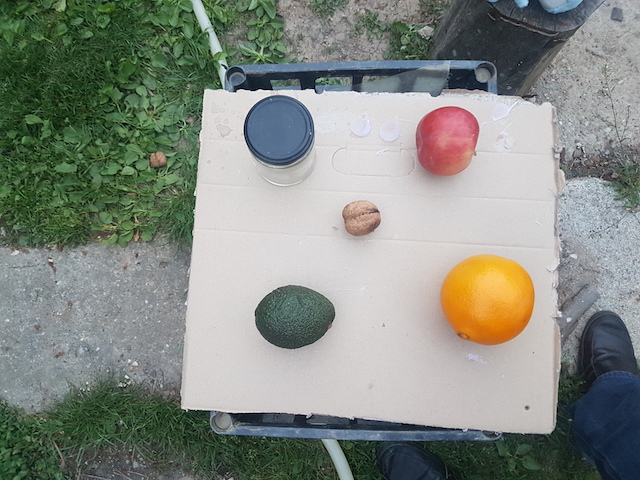apple: (414, 106, 481, 177)
avocado: (254, 282, 337, 349)
nut: (337, 196, 383, 235)
orange: (437, 250, 538, 341)
recipient: (241, 94, 314, 164)
